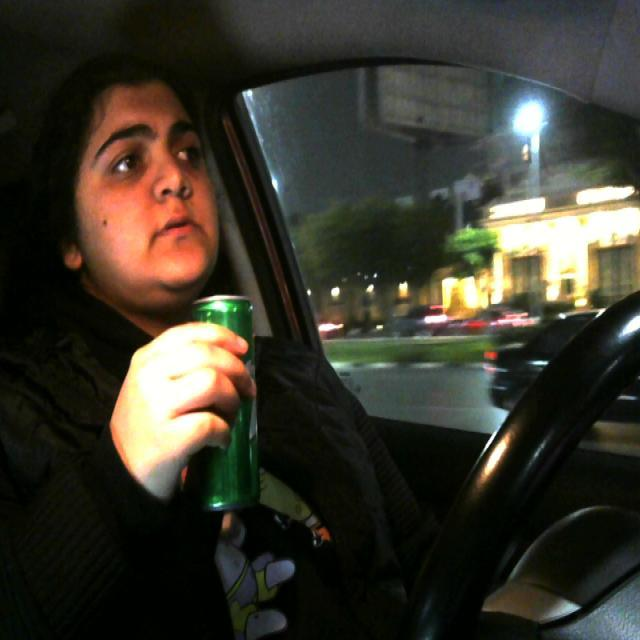Seatbelt: (192, 296, 270, 513)
